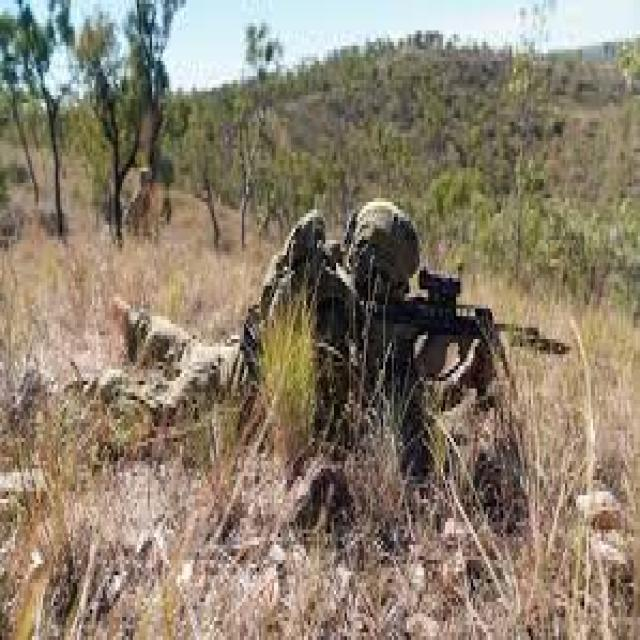soldier: (124, 161, 583, 558)
